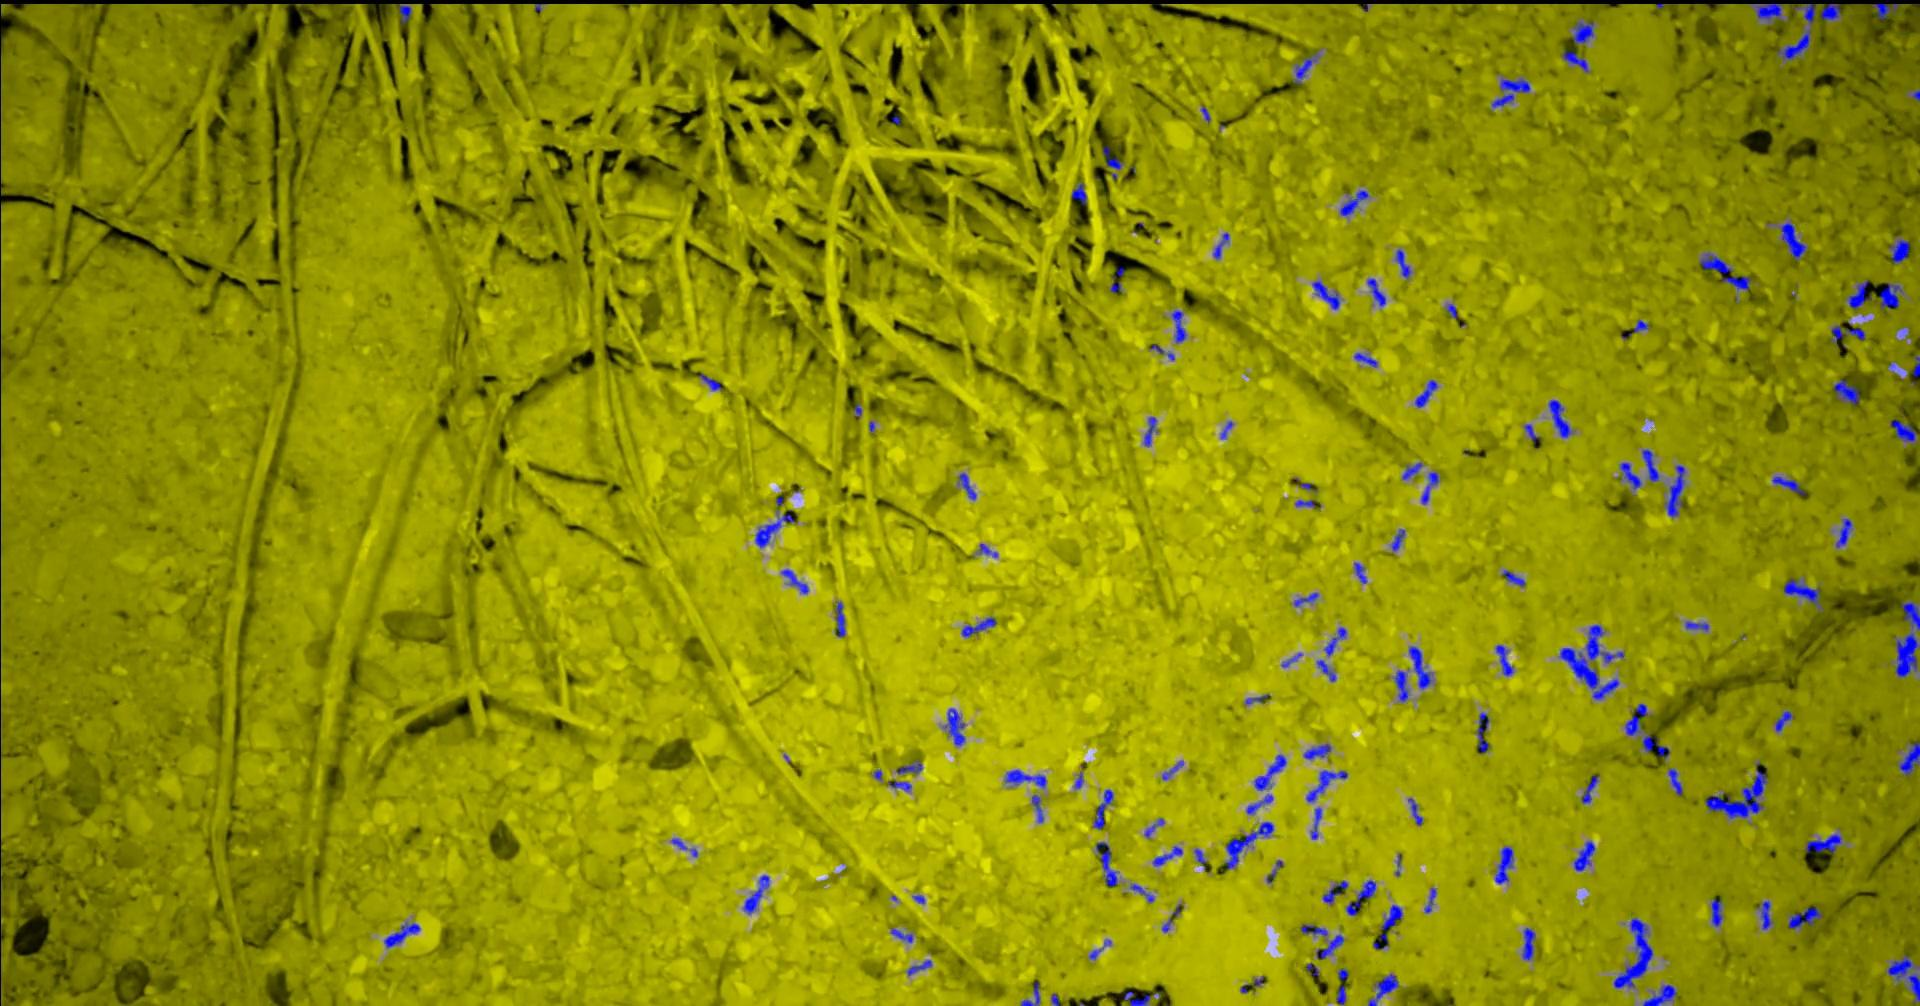ant: (1613, 918, 1652, 988), (1224, 821, 1272, 869), (1777, 3, 1815, 60), (1699, 253, 1751, 290), (1895, 600, 1919, 677), (1887, 954, 1919, 1005), (754, 509, 796, 547), (1371, 904, 1402, 949), (1305, 770, 1347, 801), (1253, 754, 1286, 790), (1491, 77, 1530, 107), (1665, 464, 1685, 517), (1783, 579, 1821, 607), (1095, 841, 1117, 887), (1345, 880, 1375, 915), (1779, 222, 1806, 260), (1408, 647, 1432, 688), (743, 875, 768, 913), (1368, 973, 1398, 1005), (383, 922, 419, 948), (1548, 399, 1571, 437), (1310, 279, 1338, 309), (1787, 906, 1822, 929), (1004, 768, 1046, 788), (1093, 788, 1112, 829), (943, 708, 964, 746), (1804, 833, 1841, 854), (1831, 321, 1865, 343), (1625, 702, 1647, 735), (1832, 379, 1859, 405), (1291, 55, 1317, 83), (1641, 733, 1669, 758), (1338, 191, 1368, 215), (961, 616, 996, 636), (1898, 741, 1919, 775), (1642, 984, 1676, 1005), (1495, 846, 1512, 884), (780, 569, 808, 593), (1316, 934, 1343, 958), (1771, 475, 1804, 495), (1152, 845, 1182, 866), (1561, 47, 1587, 71), (1848, 279, 1870, 307), (1415, 379, 1437, 406), (1323, 627, 1346, 655), (1573, 840, 1594, 870), (1641, 448, 1658, 481), (1322, 880, 1347, 903), (1890, 419, 1916, 441), (1619, 462, 1641, 489), (1161, 903, 1181, 931), (1495, 644, 1512, 676), (1755, 3, 1784, 22), (1879, 283, 1901, 309), (1170, 309, 1186, 342), (1421, 471, 1437, 504), (1476, 713, 1488, 753), (957, 473, 977, 499), (1246, 794, 1272, 813), (1368, 278, 1385, 306), (1102, 145, 1123, 169), (1888, 239, 1909, 263), (1835, 518, 1851, 547), (670, 838, 697, 856), (1571, 22, 1592, 43), (1581, 775, 1597, 803), (1129, 883, 1153, 902), (1020, 981, 1039, 1005), (1396, 248, 1410, 279), (1394, 669, 1408, 701), (1521, 927, 1535, 959), (1303, 743, 1330, 760), (1316, 659, 1336, 681), (1161, 760, 1183, 779), (697, 372, 721, 390), (1872, 3, 1900, 18), (1407, 796, 1422, 824), (1756, 901, 1771, 929), (1123, 989, 1150, 1005), (1213, 232, 1228, 259), (1501, 569, 1525, 586), (907, 959, 931, 976), (1667, 768, 1683, 794), (1144, 817, 1163, 837), (1820, 3, 1841, 20), (1266, 859, 1283, 882), (1143, 417, 1156, 446), (1352, 352, 1377, 367), (1523, 423, 1540, 443), (834, 601, 844, 636), (1775, 710, 1793, 730), (1401, 462, 1422, 479), (1070, 182, 1086, 205), (1423, 887, 1436, 913), (1293, 592, 1317, 606), (897, 760, 921, 774), (1310, 807, 1321, 840), (890, 927, 912, 942), (1031, 794, 1043, 822), (1710, 898, 1722, 926), (1300, 923, 1327, 935), (1390, 528, 1404, 550), (1352, 561, 1366, 583), (979, 542, 997, 558), (397, 5, 411, 23), (1907, 354, 1919, 376), (1335, 984, 1345, 1005), (1685, 621, 1708, 630), (888, 781, 910, 790), (1633, 319, 1648, 332), (1192, 848, 1205, 864), (1305, 963, 1319, 976), (1295, 499, 1314, 507), (1446, 304, 1457, 318)
